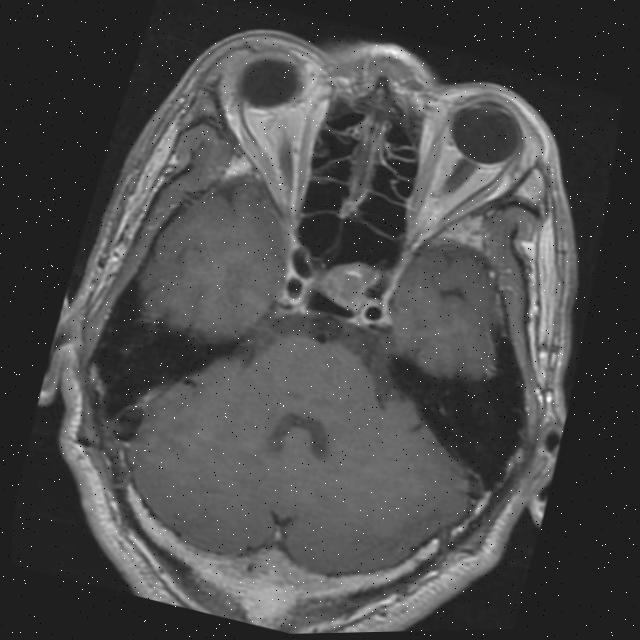Pituitary: (308, 251, 382, 316)
